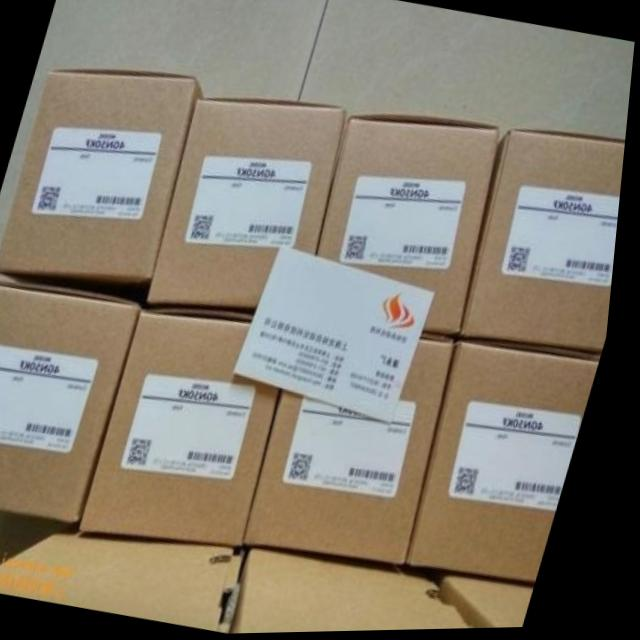box: (0, 69, 208, 300), (257, 334, 460, 569), (89, 310, 287, 549), (417, 342, 609, 583), (152, 97, 349, 309), (322, 112, 504, 335), (464, 131, 628, 355), (0, 278, 147, 523), (0, 533, 254, 635), (246, 549, 487, 635), (444, 574, 548, 631)
